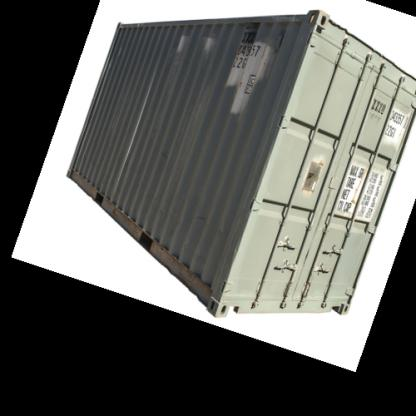Damage: (295, 152, 325, 195), (172, 30, 188, 62), (202, 30, 220, 57), (190, 212, 214, 229), (157, 144, 173, 160)
